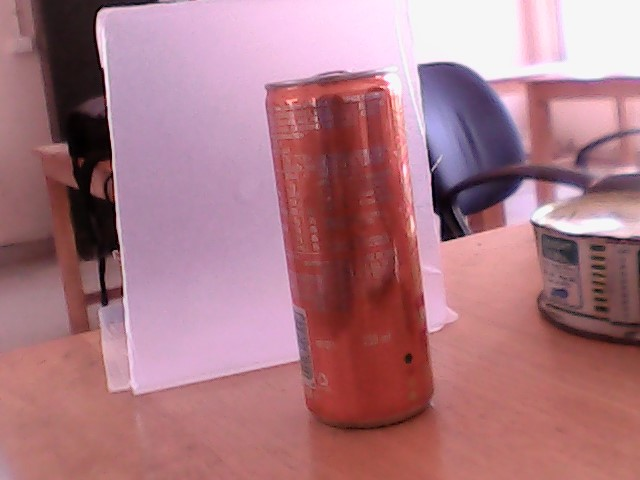Metal: (251, 80, 464, 472)
